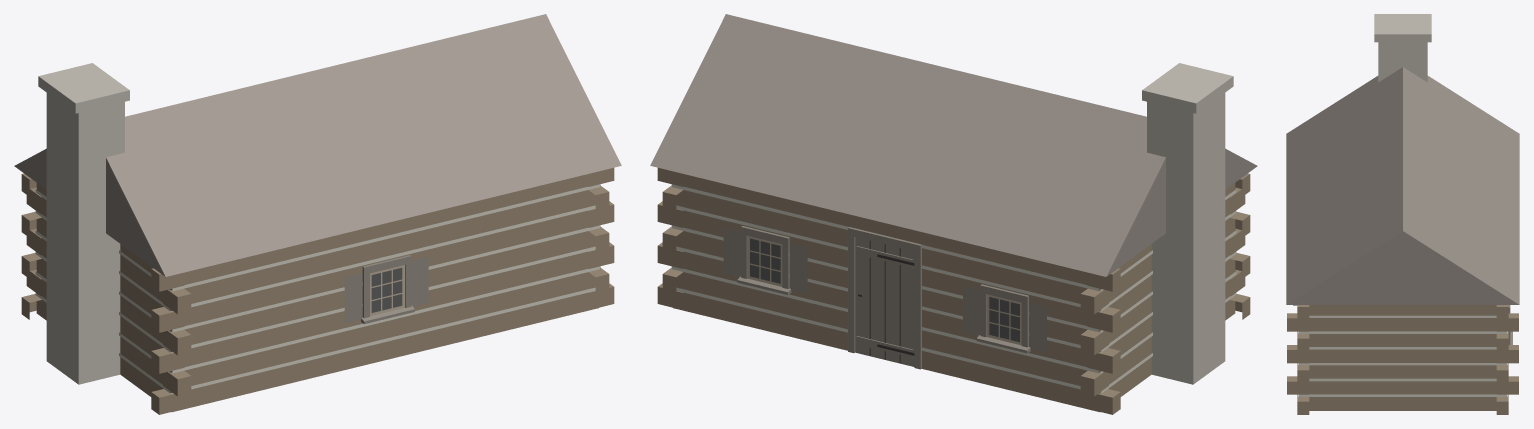
File: lemai_house_1812__lemai_1812.glb
The picture shows the model from 3 angles, left to right: view 1: azimuth 30°, elevation 25°; view 2: azimuth 150°, elevation 25°; view 3: azimuth 270°, elevation 25°; orthographic projection. The views are drawn at different scales.
Visible parts, largest first — view 1: lemai_house_1812__lemai_1812; view 2: lemai_house_1812__lemai_1812; view 3: lemai_house_1812__lemai_1812.
Boxes of the visible parts, bbox=[...] form: lemai_house_1812__lemai_1812: bbox=[14, 14, 621, 414]; lemai_house_1812__lemai_1812: bbox=[650, 14, 1257, 414]; lemai_house_1812__lemai_1812: bbox=[1286, 14, 1519, 414].
Size of the model in its own units: 8.48 by 4.71 by 4.55.
